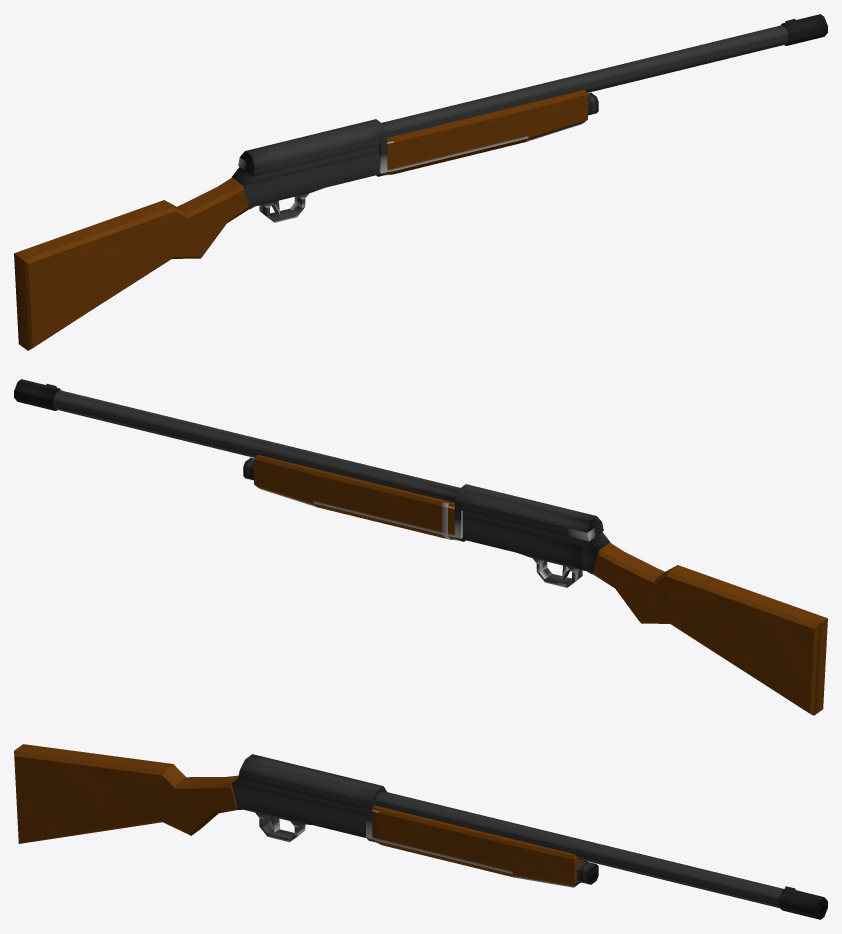
File: auto5.glb
3 views of the same model, one above another, from view 1: azimuth 30°, elevation 25°; view 2: azimuth 150°, elevation 25°; view 3: azimuth 330°, elevation 25° (orthographic).
Visible parts, largest first — view 1: ModelAuto5; view 2: ModelAuto5; view 3: ModelAuto5.
Boxes of the visible parts, left/top/right/bottom form: ModelAuto5: left=14, top=14, right=827, bottom=350; ModelAuto5: left=14, top=379, right=827, bottom=715; ModelAuto5: left=14, top=744, right=827, bottom=919.
Bounding box in the file's own units: 25.15 × 4.2 × 0.85.
Materials: 1 (1 with a texture image).
